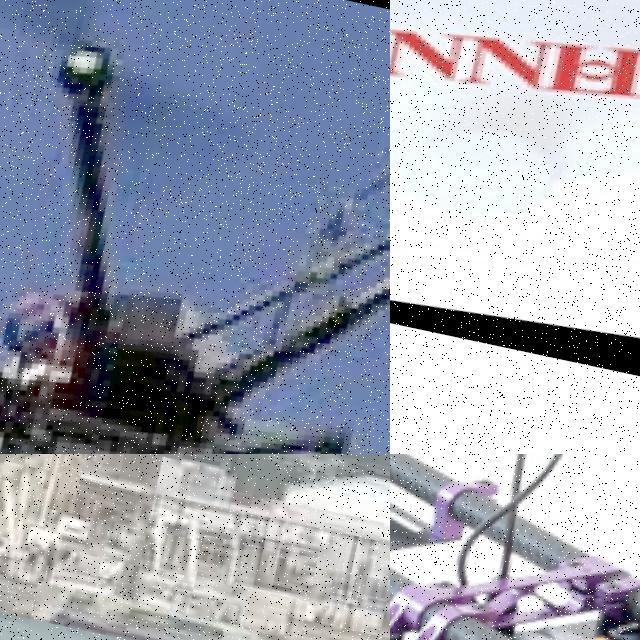drone: (0, 0, 390, 454), (390, 0, 640, 380), (390, 454, 640, 640)
